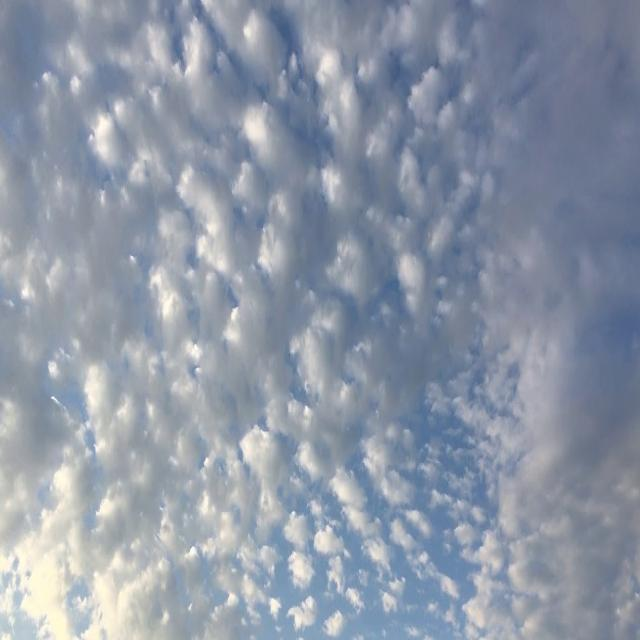altocumulus: (24, 33, 636, 618)
